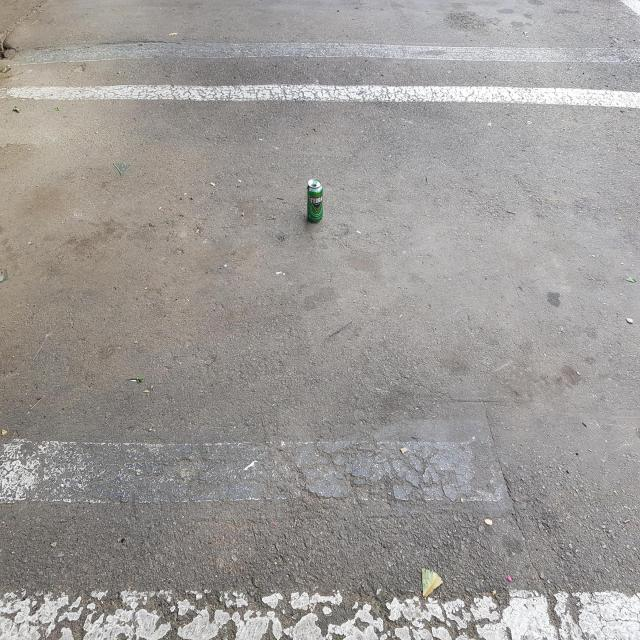can: (307, 178, 323, 222)
